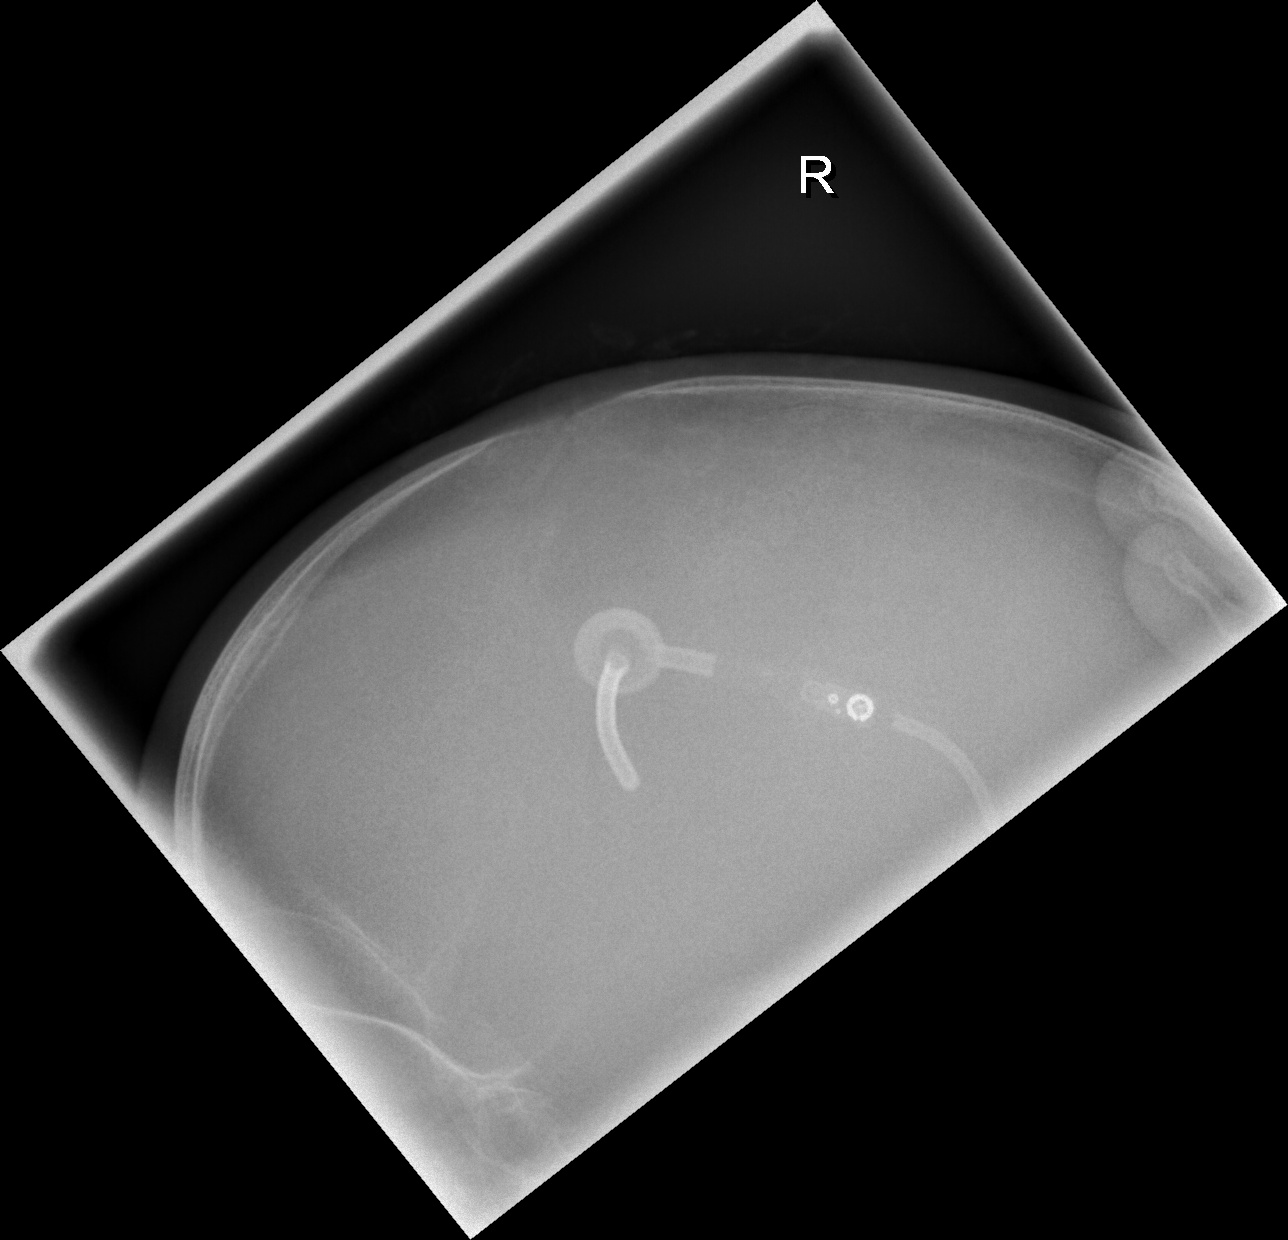Codman Hakim: (814, 680, 883, 730)
